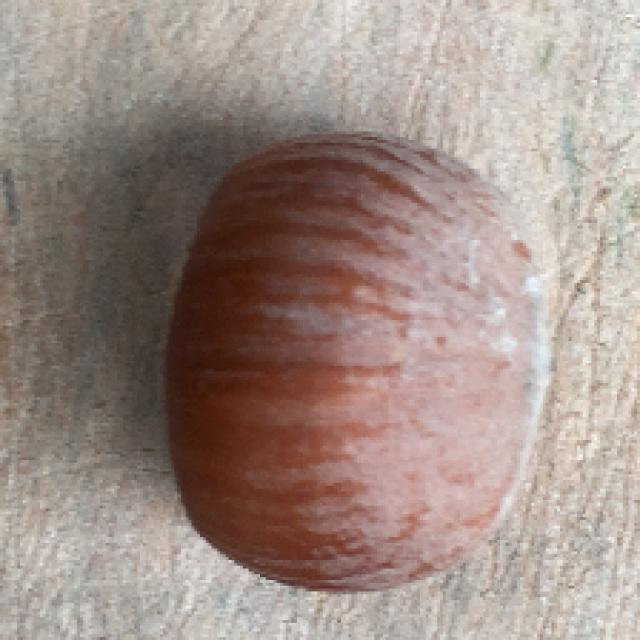qualityHazelnut: (148, 121, 548, 598)
